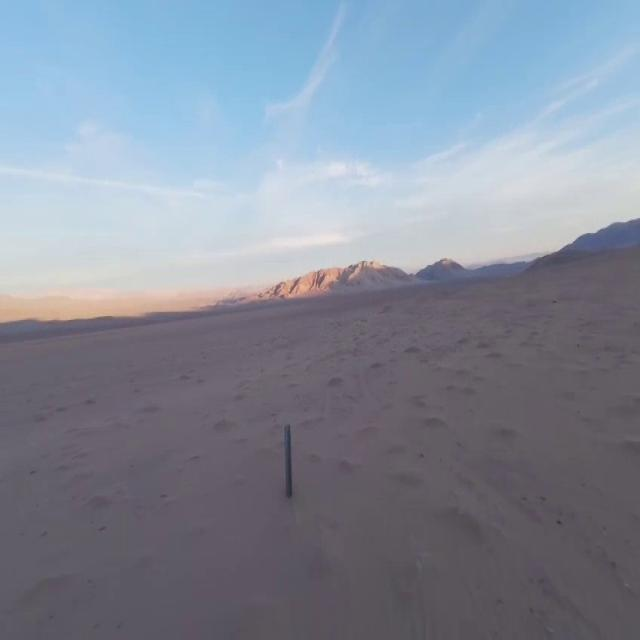Tire: (285, 424, 291, 497)
